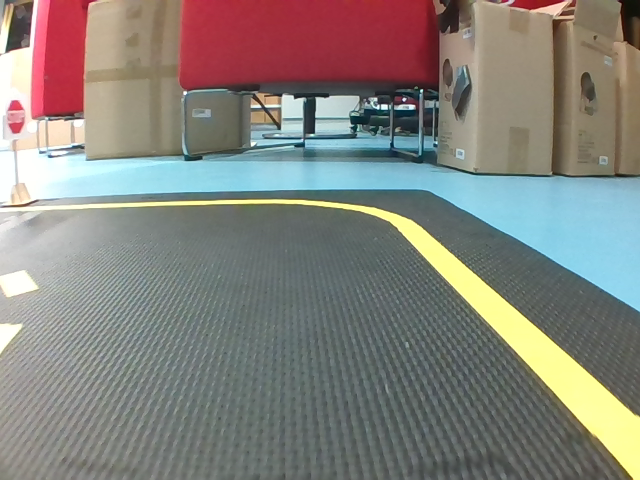stop: (2, 96, 28, 138)
